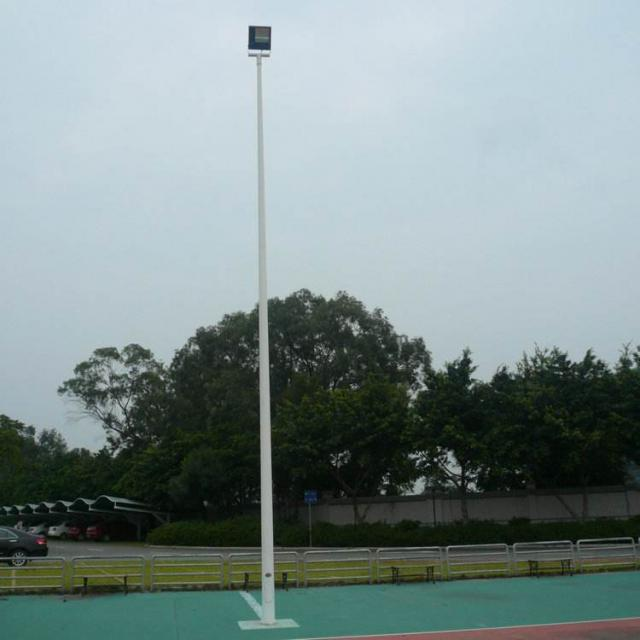car: (3, 525, 48, 566), (84, 520, 134, 542), (49, 520, 73, 538), (67, 520, 88, 539)
pole: (246, 82, 285, 620)
